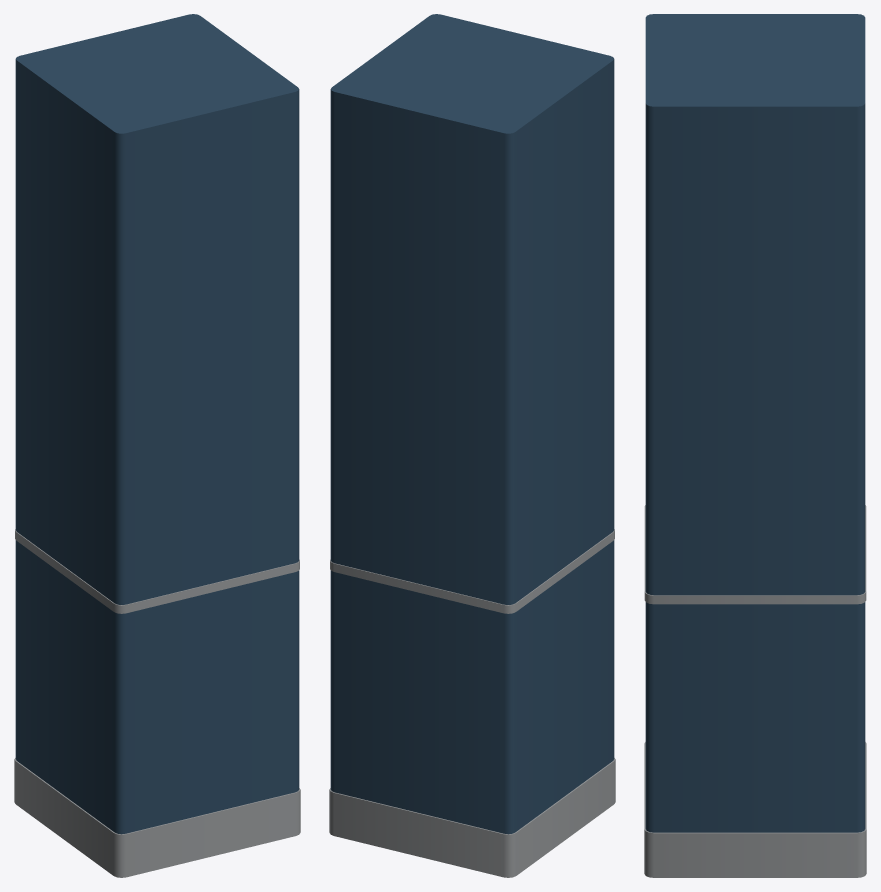
Rendered from gteki_column_square_800_accent.glb.
The picture shows the model from 3 angles, left to right: view 1: azimuth 30°, elevation 25°; view 2: azimuth 150°, elevation 25°; view 3: azimuth 270°, elevation 25°; orthographic projection. The views are drawn at different scales.
Visible parts, largest first — view 1: VIS_body; view 2: VIS_body; view 3: VIS_body.
Part boxes in pixels (x1,y1,x2,y2): VIS_body: (14, 14, 300, 877); VIS_body: (329, 14, 615, 877); VIS_body: (644, 14, 866, 877).
Size of what is drawn, in the model's own units: 0.81 by 3.1 by 0.81.
Materials: 1 (1 with a texture image).
